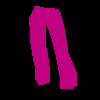pantaloni: (29, 6, 76, 89)
